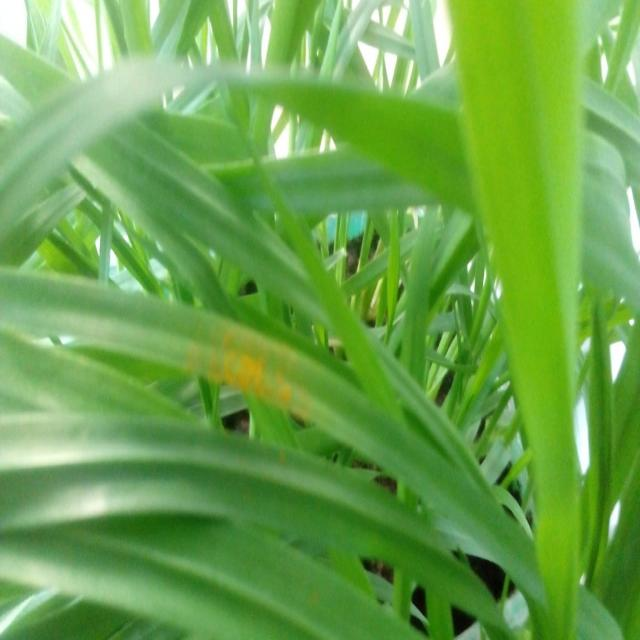wheat-yellowrust: (0, 269, 538, 585)
